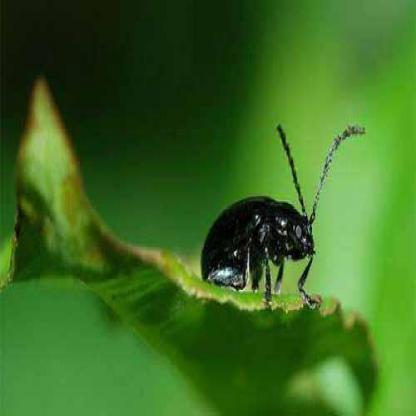beetle: (199, 122, 373, 306)
